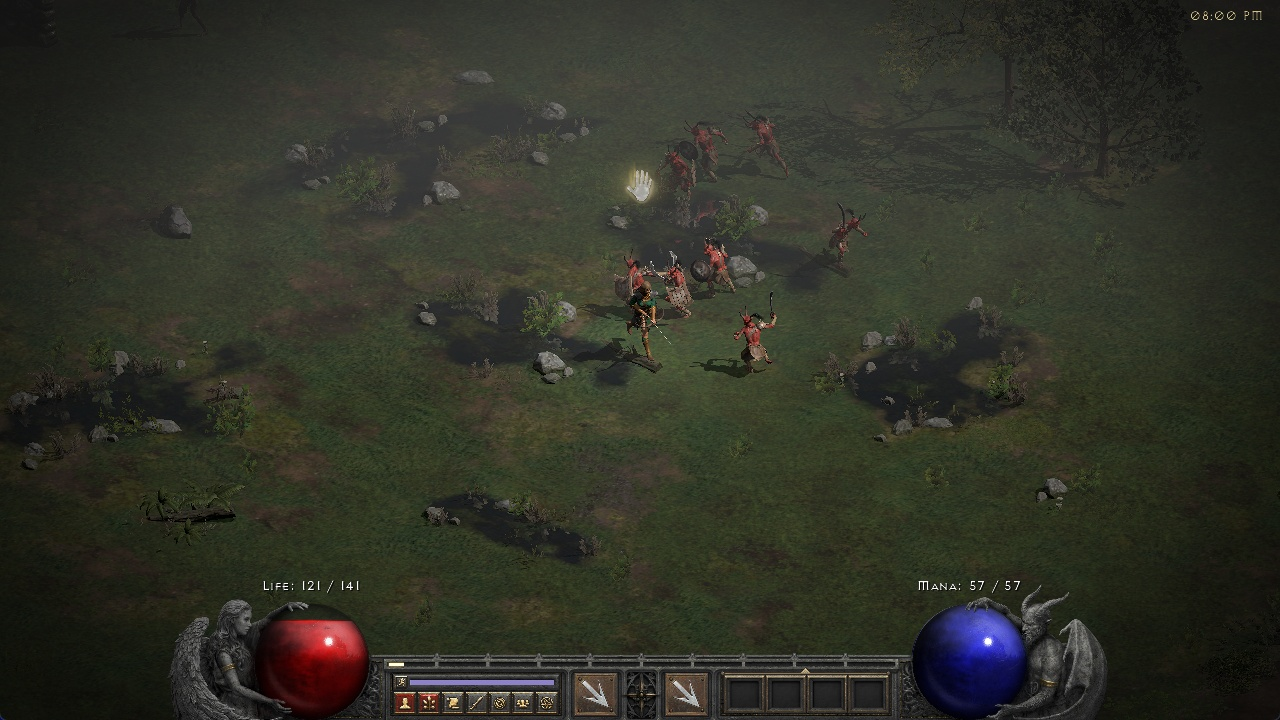fallen: (740, 108, 796, 178), (732, 292, 780, 369), (682, 120, 733, 181), (829, 201, 870, 271), (690, 235, 739, 292), (658, 254, 693, 318), (655, 148, 683, 197), (612, 255, 652, 286)
